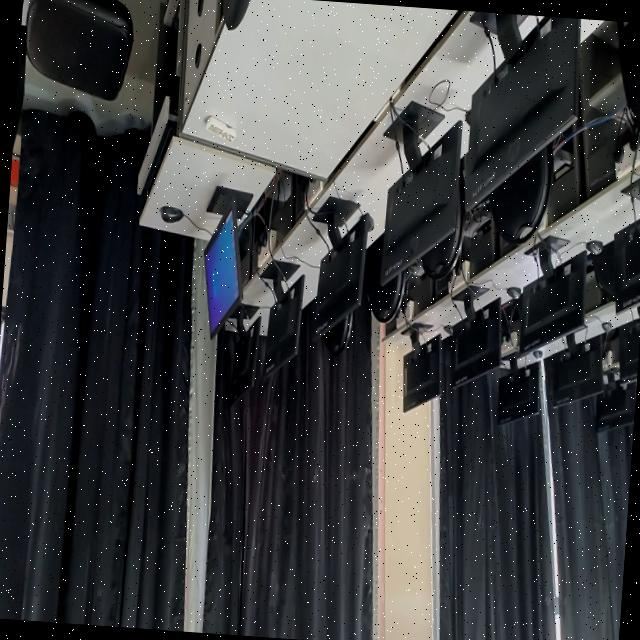Chair: (9, 0, 132, 193), (485, 152, 556, 252), (614, 20, 640, 145), (421, 225, 462, 282), (368, 270, 404, 326), (324, 318, 348, 362)
Monitor: (464, 10, 578, 198), (380, 98, 463, 284), (313, 185, 369, 332), (197, 171, 244, 343), (520, 230, 585, 352), (262, 247, 308, 375), (450, 283, 502, 386), (396, 308, 442, 412), (548, 326, 600, 412), (610, 181, 640, 311), (222, 306, 260, 404), (492, 355, 538, 422), (593, 376, 636, 432), (620, 301, 640, 387)
Mouse: (154, 204, 183, 228), (583, 234, 602, 257), (504, 282, 520, 305), (532, 348, 542, 361)
